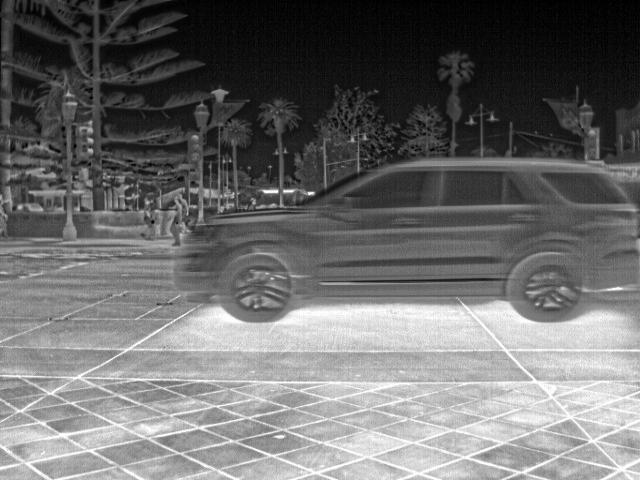car: (176, 156, 639, 322)
person: (170, 200, 187, 246)
